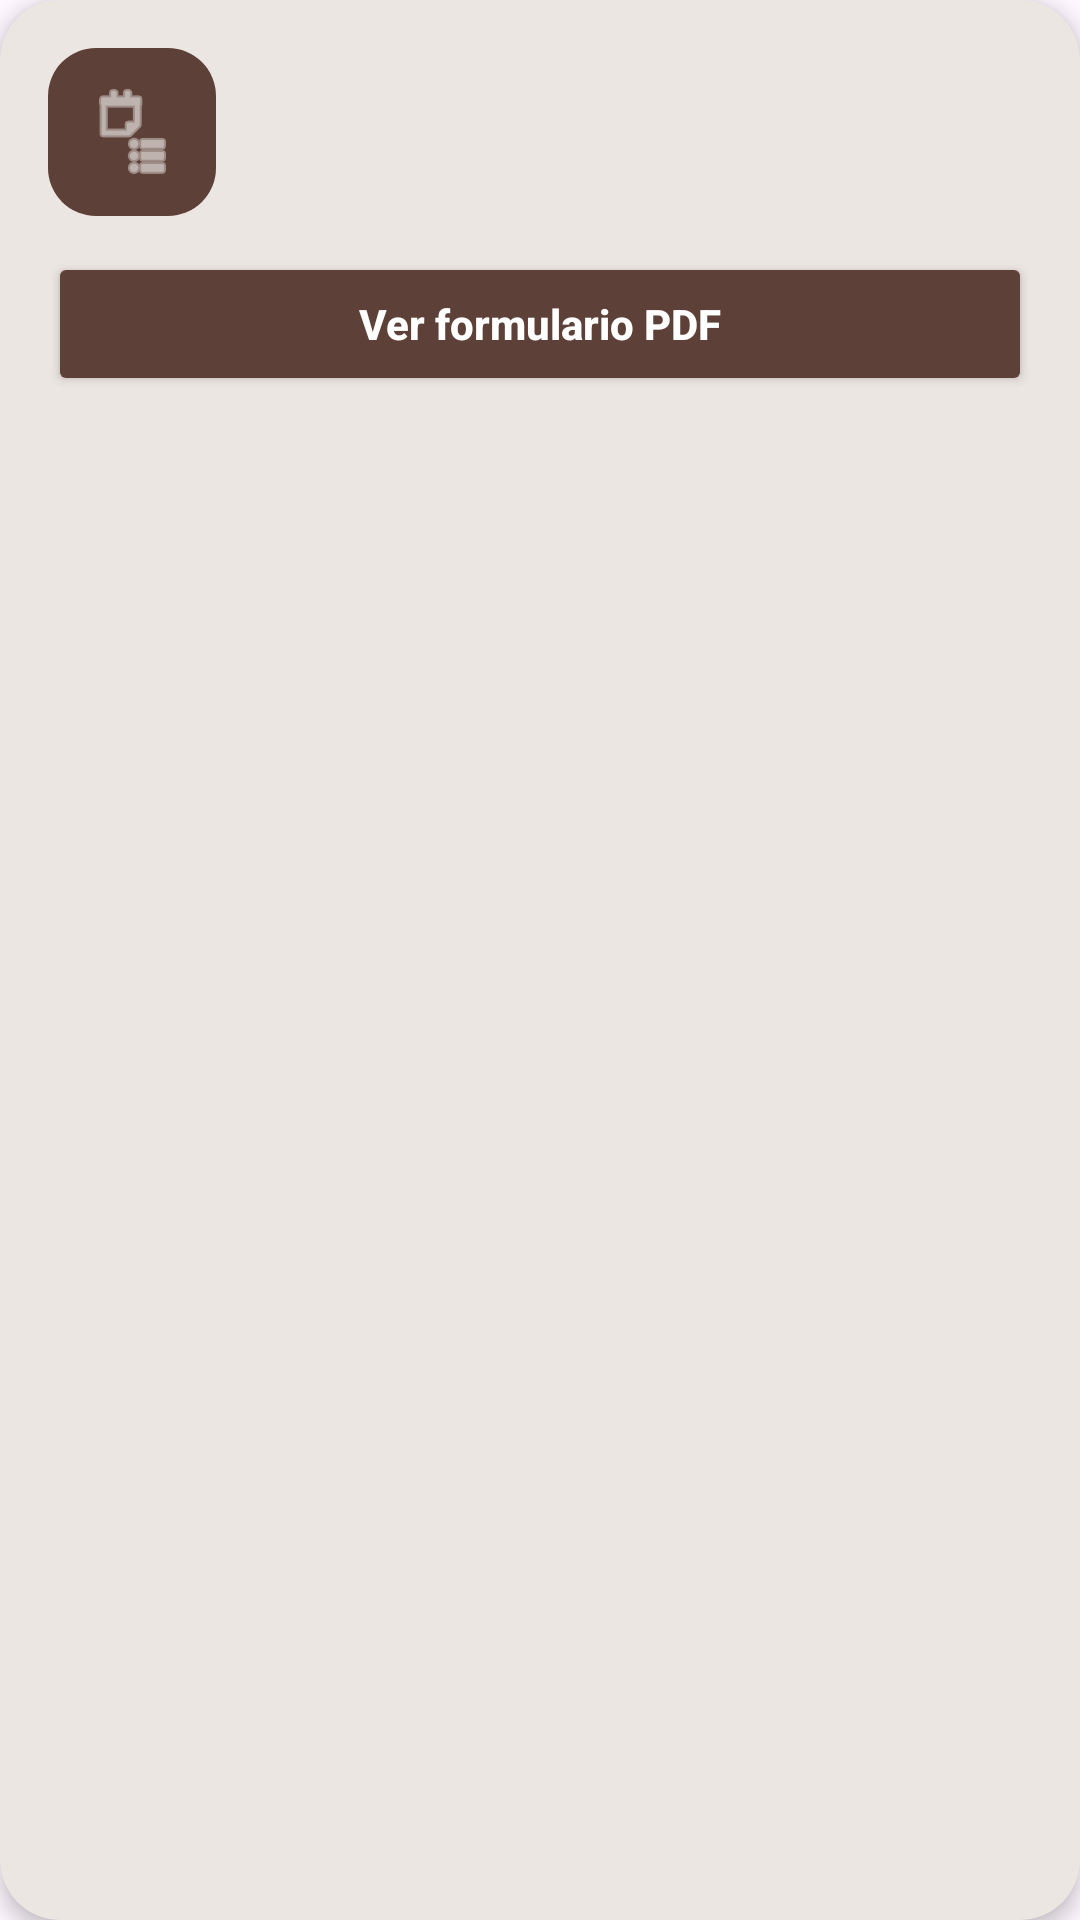

Named icons in this screenshot (1080x1920) and their centers, (x,y):
agenda: (132,132)
